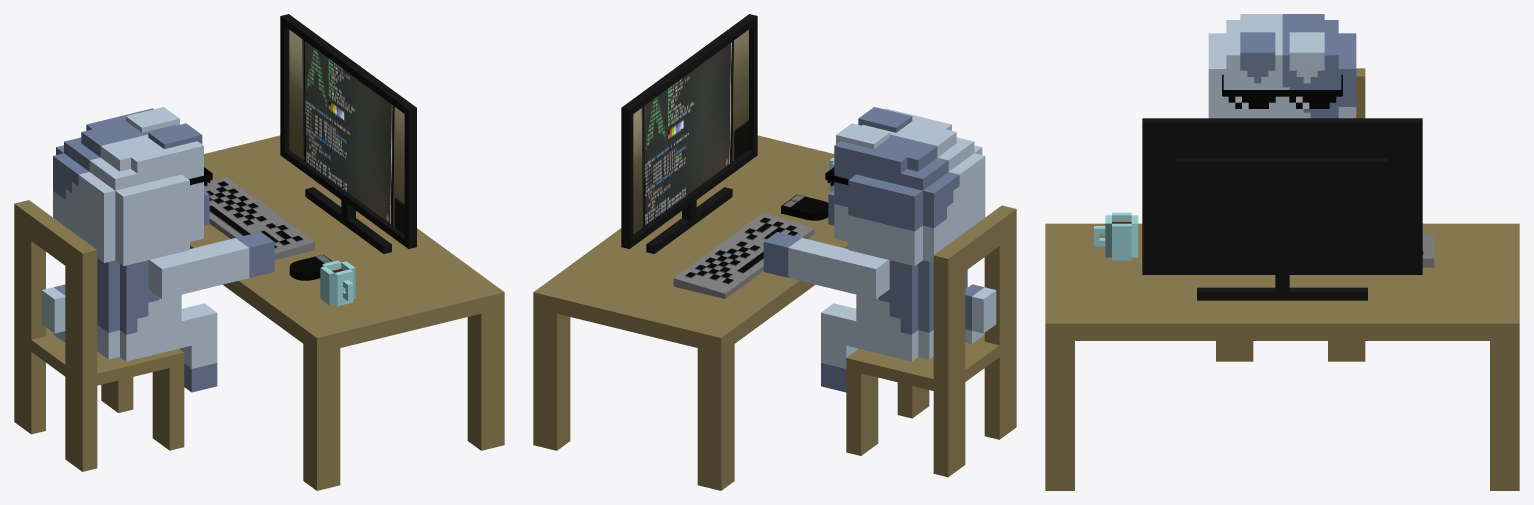
File: dog3.glb
3 views of the same model, side by side, from view 1: azimuth 30°, elevation 25°; view 2: azimuth 150°, elevation 25°; view 3: azimuth 270°, elevation 25° (orthographic). The views are drawn at different scales.
Parts seen in each view (by area): view 1: desk, Cube.001, display, chair.001, keyboard, Cube.002, mouse; view 2: desk, Cube.001, display, chair.001, keyboard, mouse; view 3: display, desk, Cube.001, chair.001, glaases.001, Cube.002.
Boxes of the visible parts, x1,y1,x2,y2 form: desk: [190, 135, 504, 490]; Cube.001: [41, 107, 274, 392]; display: [280, 14, 416, 253]; chair.001: [14, 200, 184, 471]; keyboard: [204, 176, 314, 259]; Cube.002: [320, 260, 355, 305]; mouse: [289, 254, 332, 280]; desk: [533, 135, 848, 490]; Cube.001: [763, 107, 996, 392]; display: [621, 14, 757, 253]; chair.001: [846, 205, 1016, 477]; keyboard: [673, 213, 814, 298]; mouse: [781, 194, 828, 220]; display: [1142, 118, 1422, 300]; desk: [1045, 223, 1519, 490]; Cube.001: [1208, 14, 1356, 118]; chair.001: [1216, 68, 1365, 361]; glaases.001: [1222, 74, 1342, 108]; Cube.002: [1094, 212, 1138, 260].
Size of the model in its own units: 1.85 by 1.61 by 2.
Materials: 13 (1 with a texture image).
